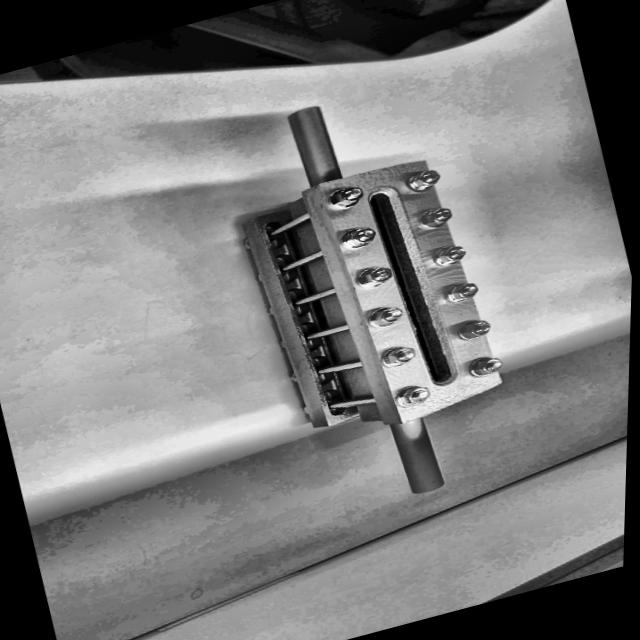ShuiWeiQi_12: (194, 52, 581, 531)
